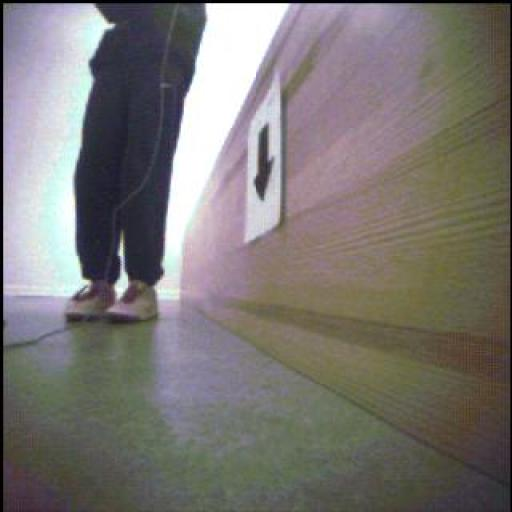arrow: (256, 126, 275, 201)
